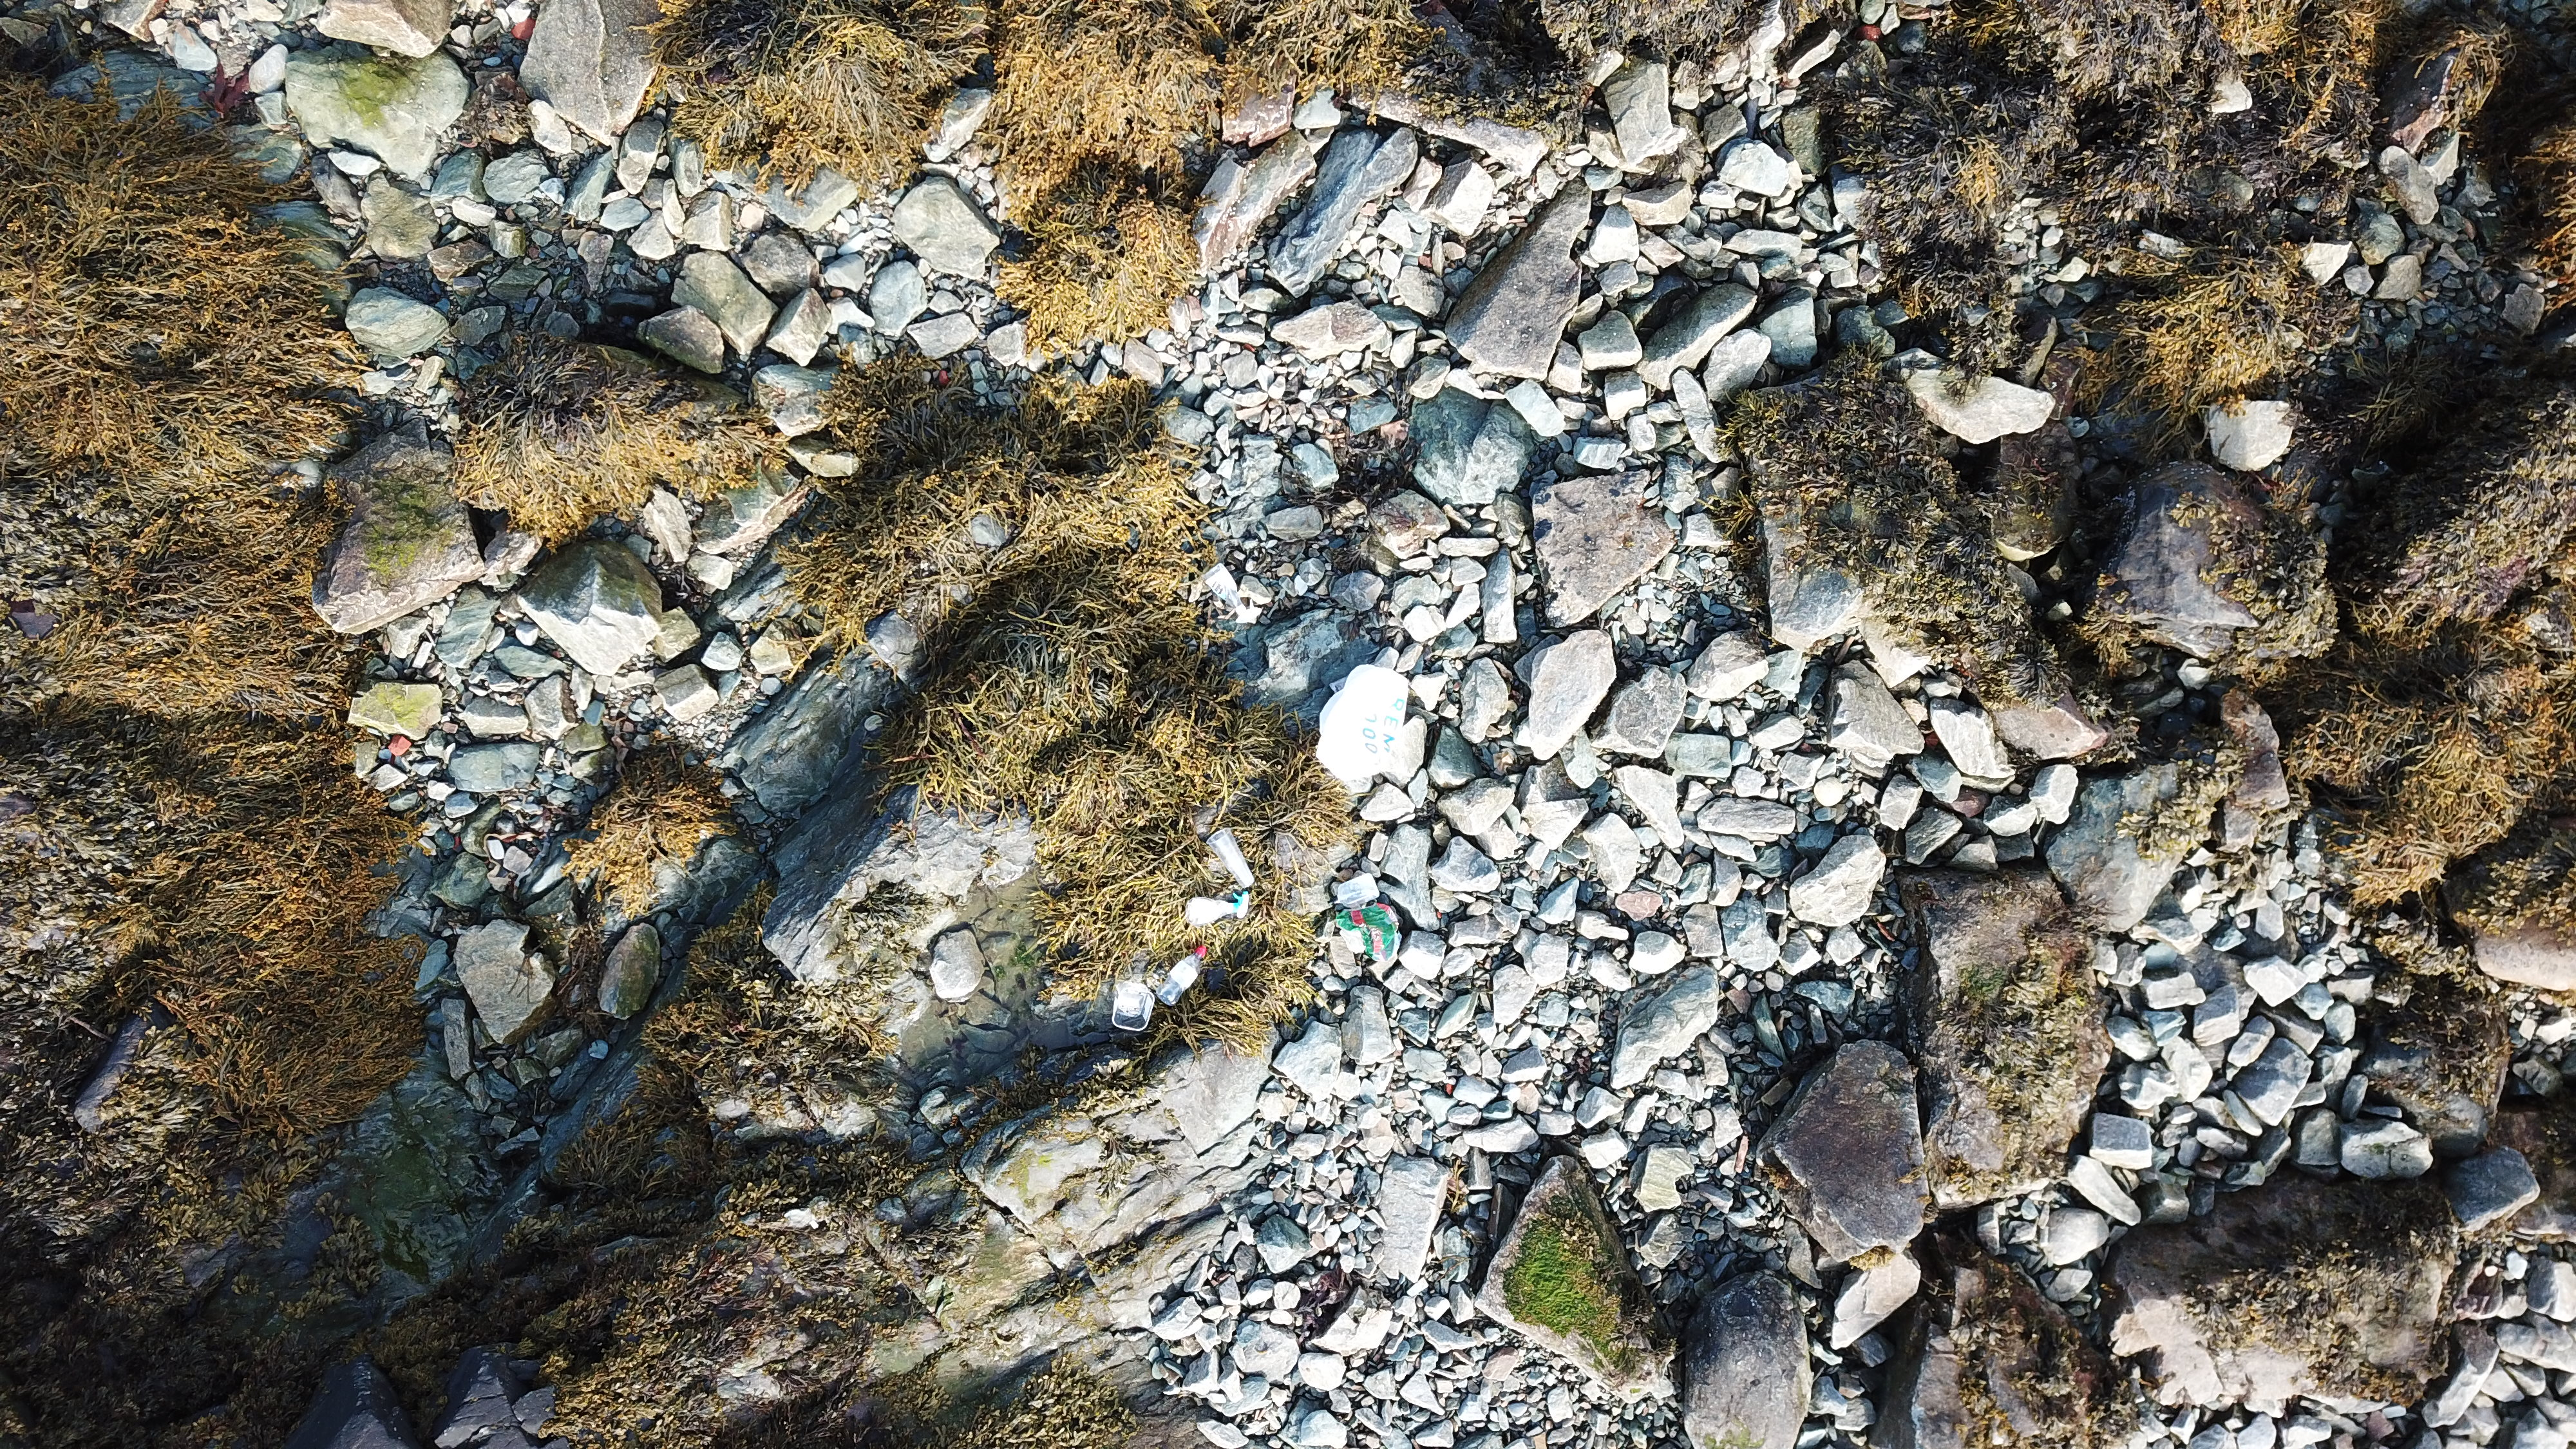Plastic: (1315, 663, 1412, 782), (1336, 902, 1401, 962), (1203, 561, 1261, 625), (1207, 824, 1254, 888), (1185, 890, 1251, 927), (1111, 980, 1155, 1031), (1327, 872, 1380, 911)
PlasticBottle: (1155, 945, 1208, 1007)
